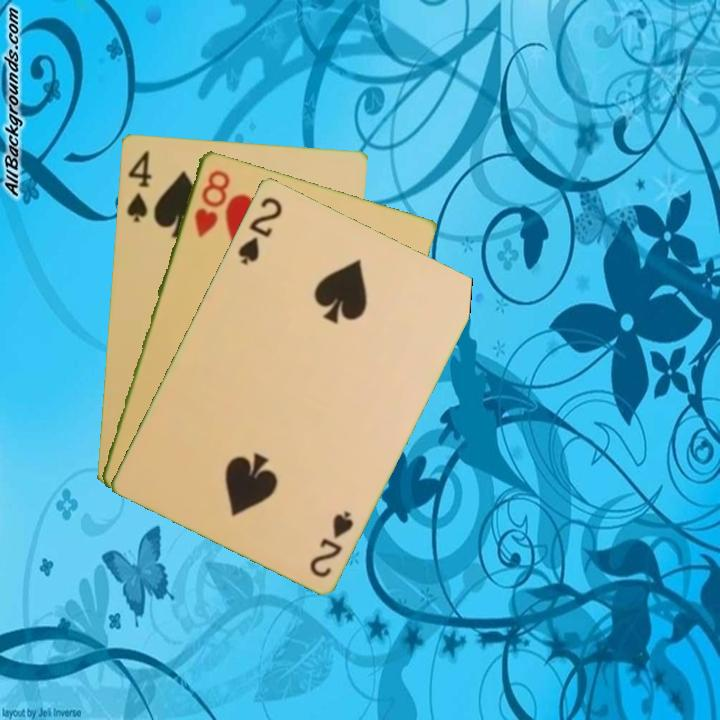2s: (234, 193, 285, 267), (306, 506, 357, 580)
4s: (123, 146, 155, 225)
8h: (190, 166, 232, 240)
